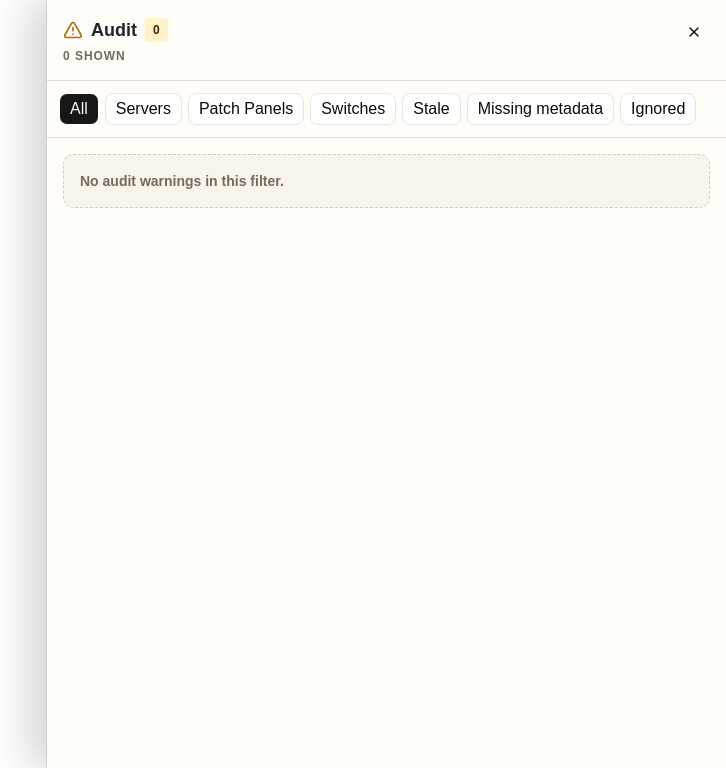
it: AuditDrawer › shows ignored warnings only in the Ignored filter and keeps the badge count open-only
Expected: the text "Switch has active connections but no uplink or trunk port marked." is not shown
Step 1. Click the button "Ignored" → (658, 109), box [620,93,696,125]
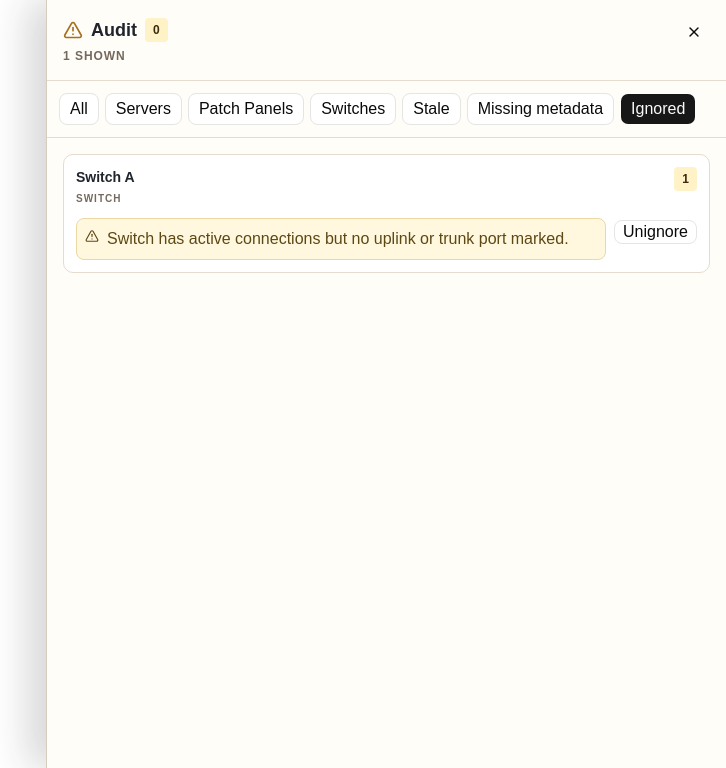
Expected: the text "Switch has active connections but no uplink or trunk port marked." is shown, [107,227,569,251]
Expected: the text "1 shown" is shown, [63,49,126,63]
